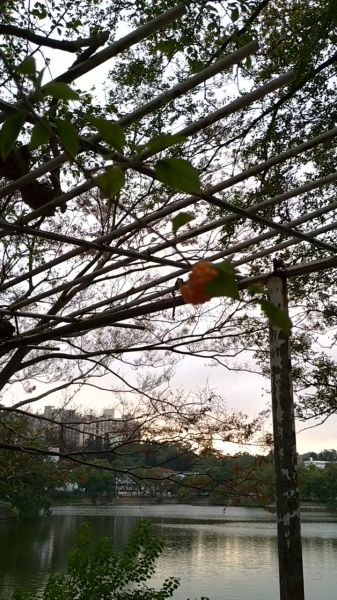eggs: (174, 251, 228, 308)
